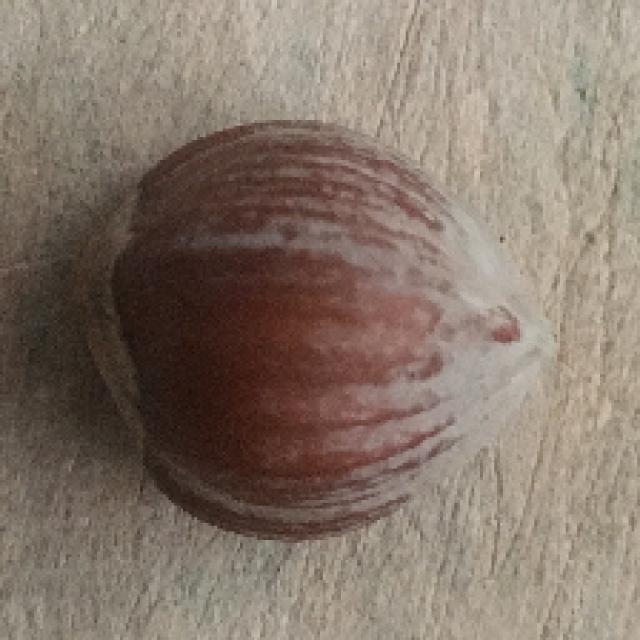QualityHazelnut: (75, 117, 561, 547)
